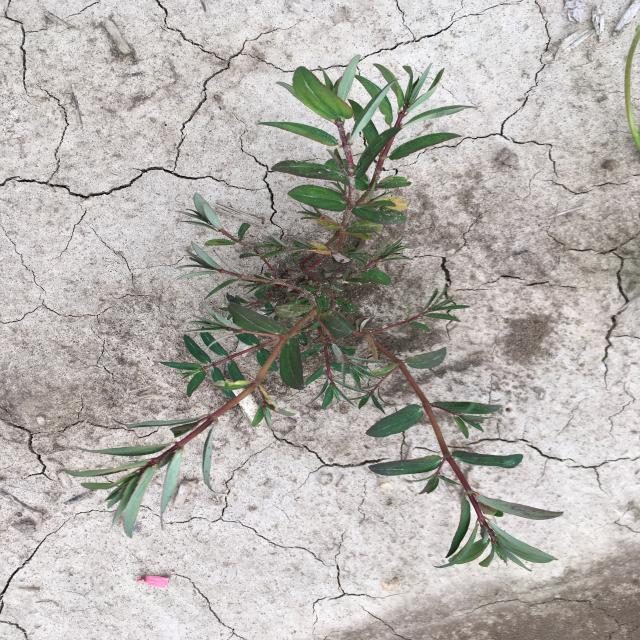SpottedSpurge: (64, 54, 565, 571)
